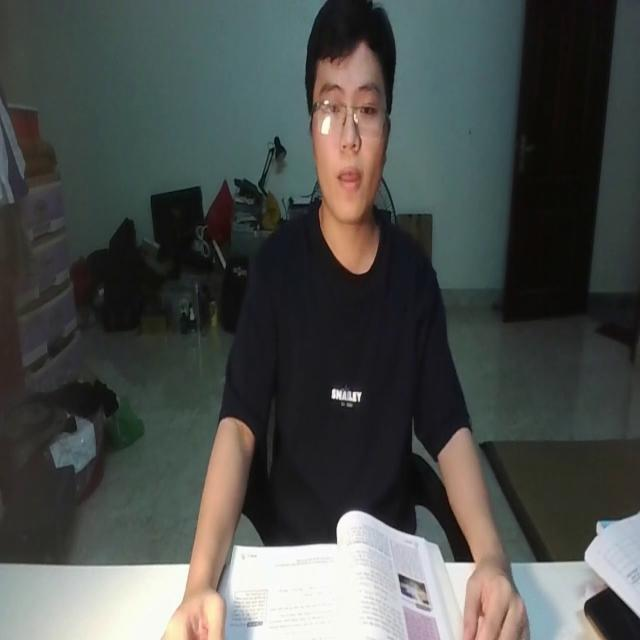book: (222, 510, 464, 640)
student: (158, 0, 530, 640)
